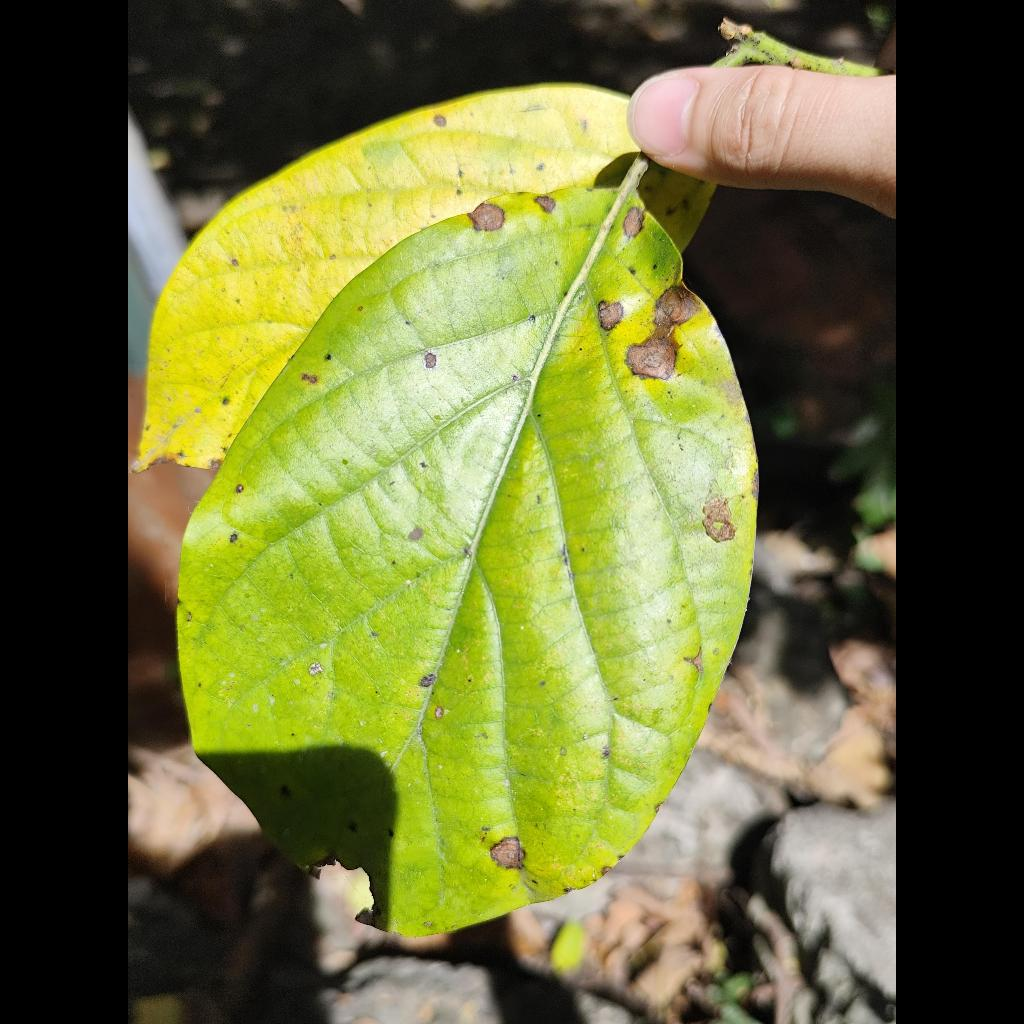deficiencia_nutricional: (178, 155, 756, 935)
